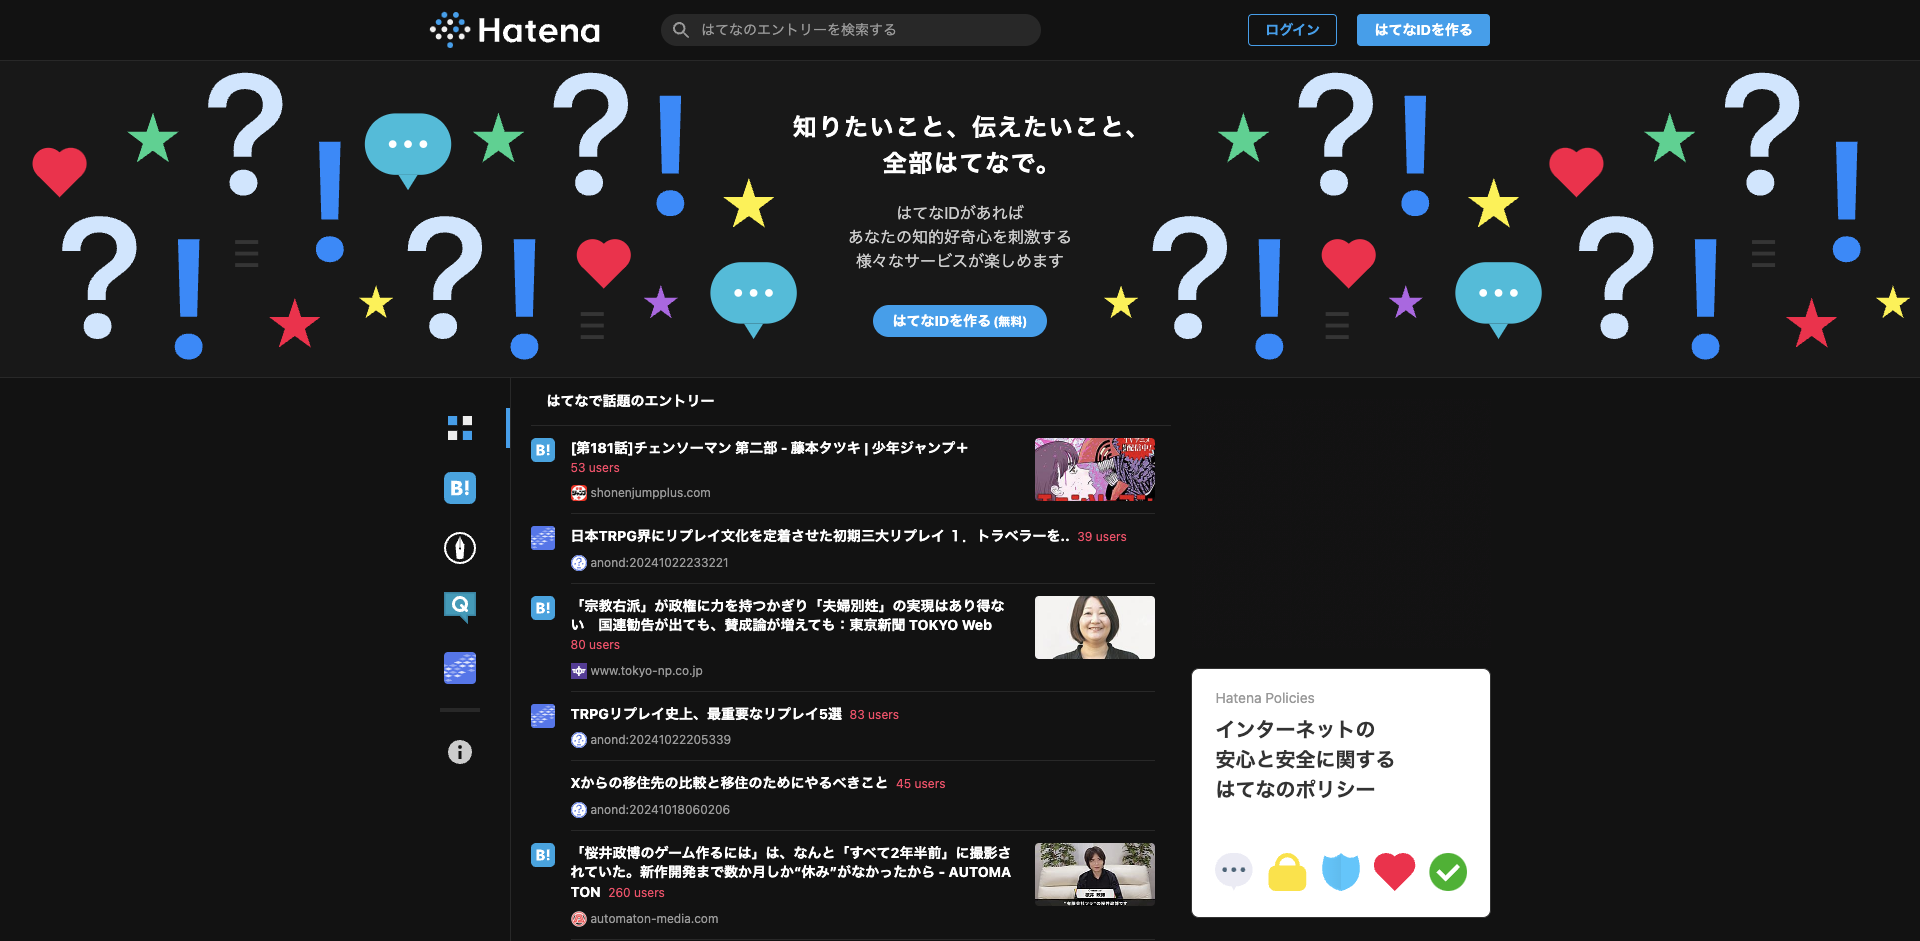input: (661, 13, 1041, 47)
link: (1190, 668, 1490, 918), (571, 844, 1011, 899), (571, 597, 1004, 633), (571, 527, 1070, 544), (1035, 437, 1155, 501), (1035, 595, 1155, 659), (1035, 843, 1155, 905), (571, 439, 970, 456), (430, 12, 600, 48), (873, 305, 1047, 337), (571, 774, 889, 792), (571, 705, 842, 722), (1358, 13, 1490, 47), (1248, 13, 1337, 47), (590, 733, 731, 749), (590, 801, 730, 817), (590, 555, 729, 571), (590, 910, 719, 926), (590, 485, 710, 501), (590, 663, 703, 679), (609, 883, 665, 903), (571, 457, 620, 477), (1078, 527, 1127, 546), (571, 635, 620, 654), (850, 705, 899, 724), (896, 774, 945, 794), (530, 437, 555, 462), (530, 526, 555, 550), (530, 595, 555, 620), (530, 703, 555, 728), (530, 843, 555, 866)
